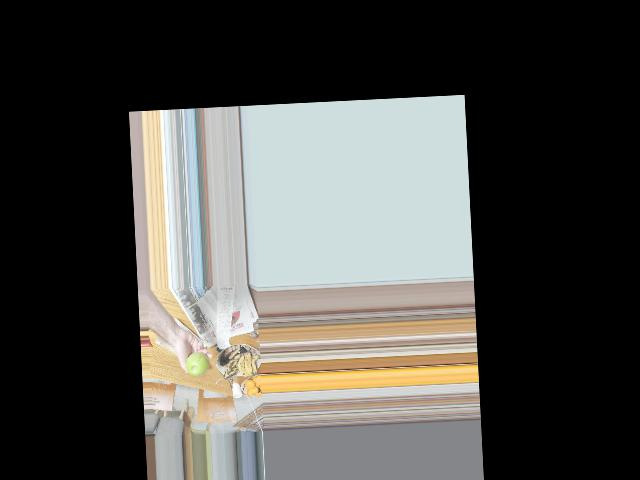apple: (185, 350, 209, 376)
